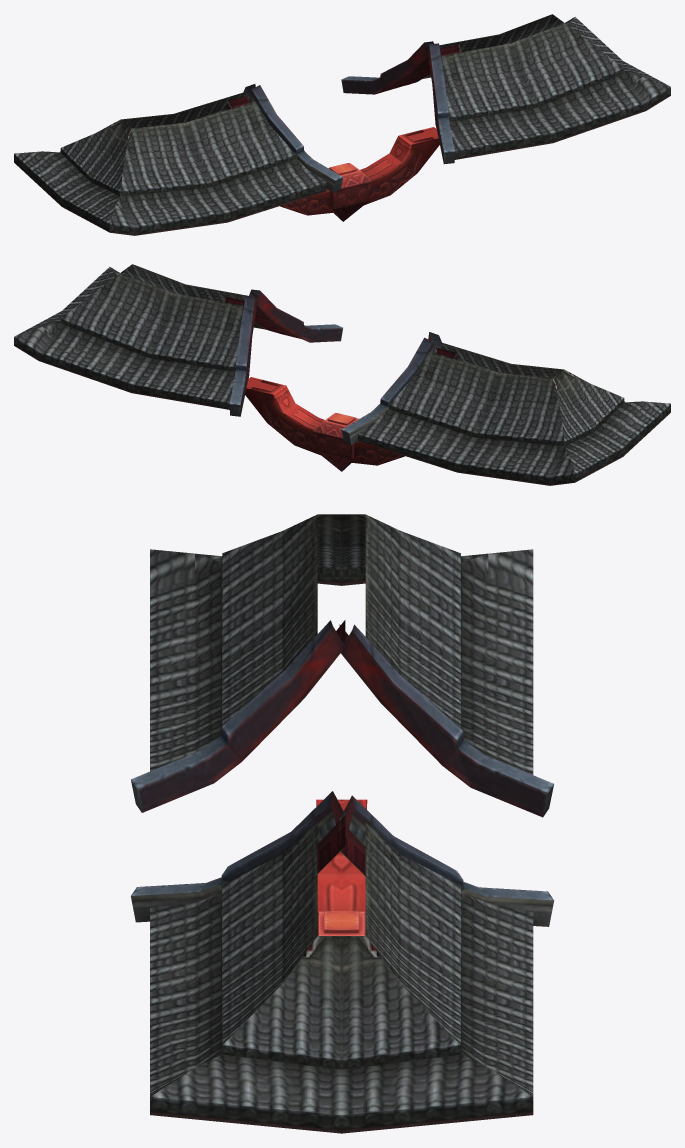
File: pve_ljjl01a.FBX
3 views of the same model, one above another, from view 1: azimuth 30°, elevation 25°; view 2: azimuth 150°, elevation 25°; view 3: azimuth 270°, elevation 25° (orthographic). The views are drawn at different scales.
Visible parts, largest first — view 1: pve_ljjl01a; view 2: pve_ljjl01a; view 3: pve_ljjl01a.
Boxes of the visible parts, box(x1,y1,x2,y2) form: pve_ljjl01a: box(14, 14, 670, 235); pve_ljjl01a: box(14, 264, 670, 485); pve_ljjl01a: box(131, 514, 554, 1133).
Size of the model in its own units: 2579 by 700 by 843.
Materials: 1 (1 with a texture image).
